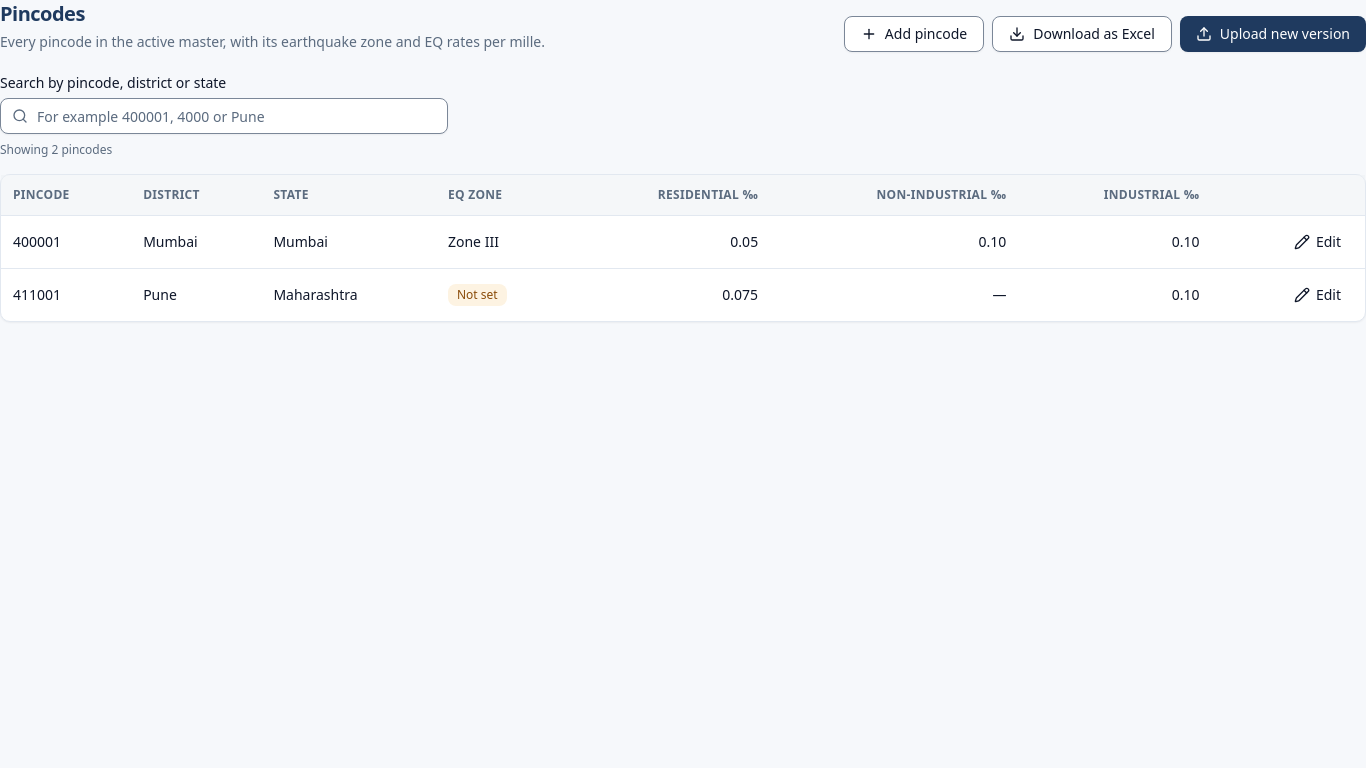
Test: PincodeView › lets an Admin correct a pincode
This screenshot has width=1366, height=768.
Click the button with aria-label "Edit pincode 400001". click: (1317, 242)
box: [1282,226,1353,258]
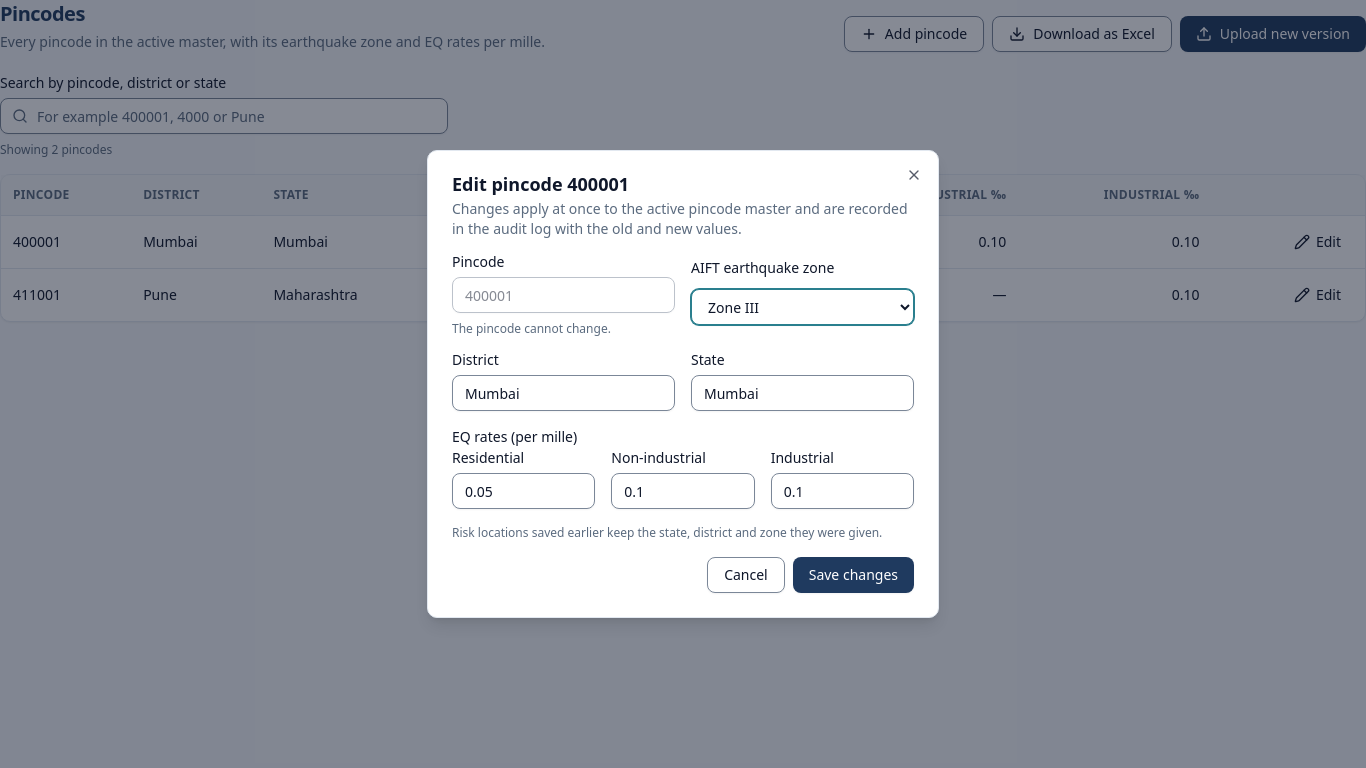
Now the field labelled "Pincode" is disabled, box [452,277,675,313]
Select "Zone II" in the dropdown labelled "AIFT earthquake zone". click: (802, 307)
box: [691,289,914,325]
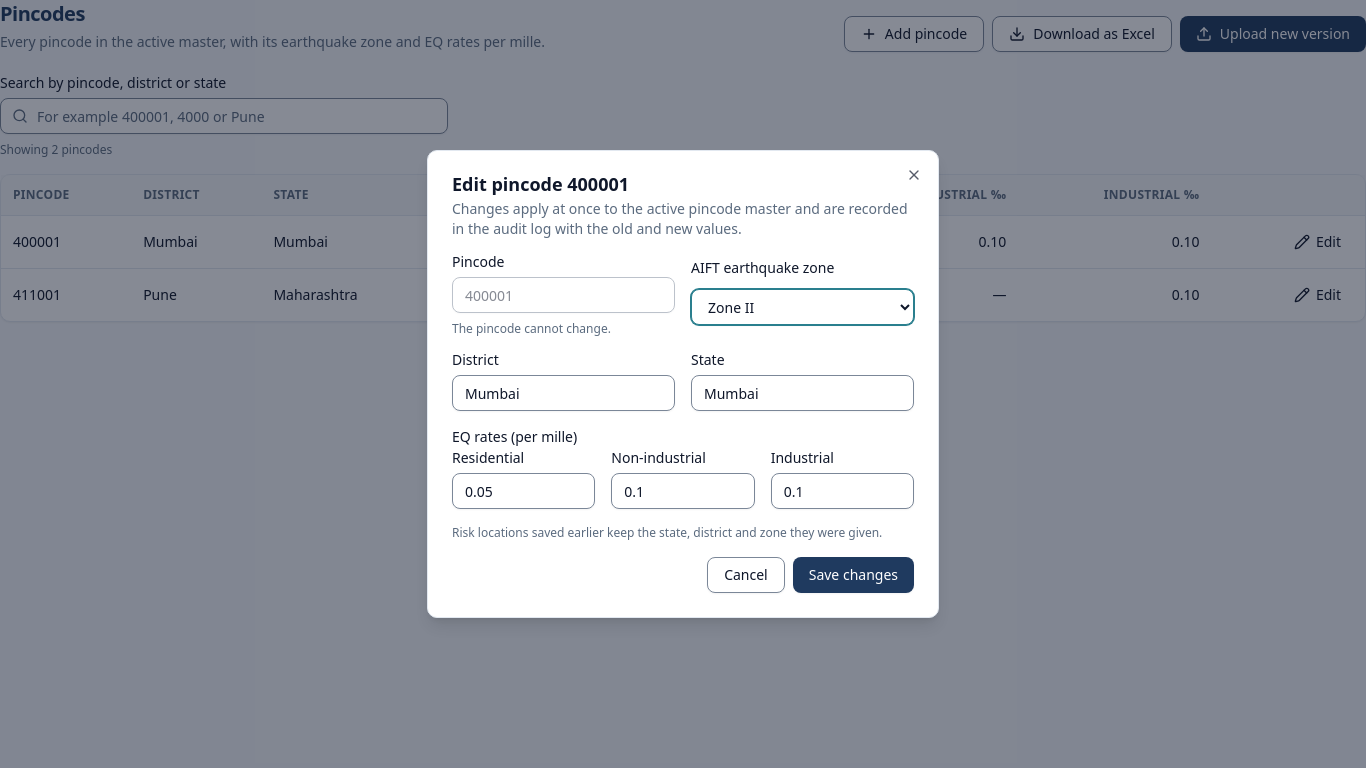
Replace the text in the field labelled "Industrial" with "0.25". click: (842, 491)
box: [771,473,914,509]
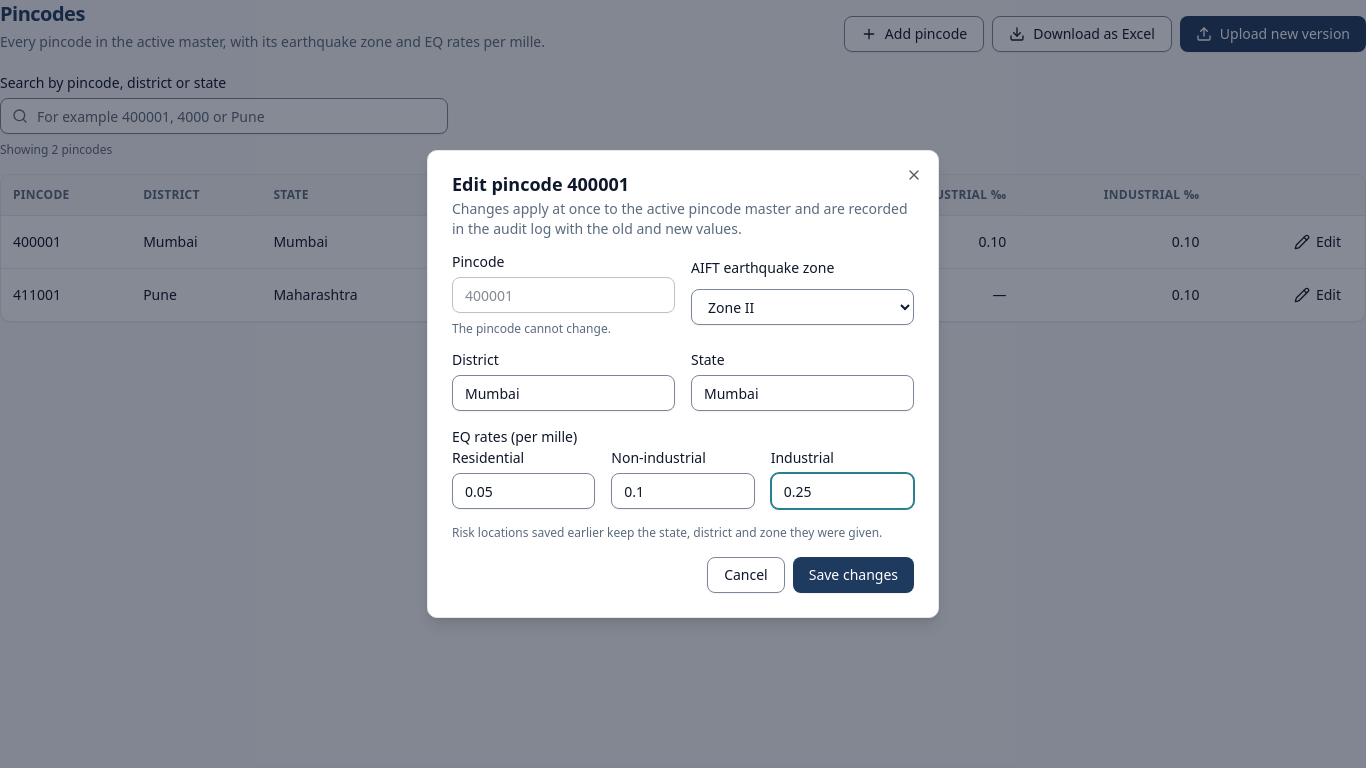
Click the button "Save changes". click: (853, 575)
box: [793,557,914,593]
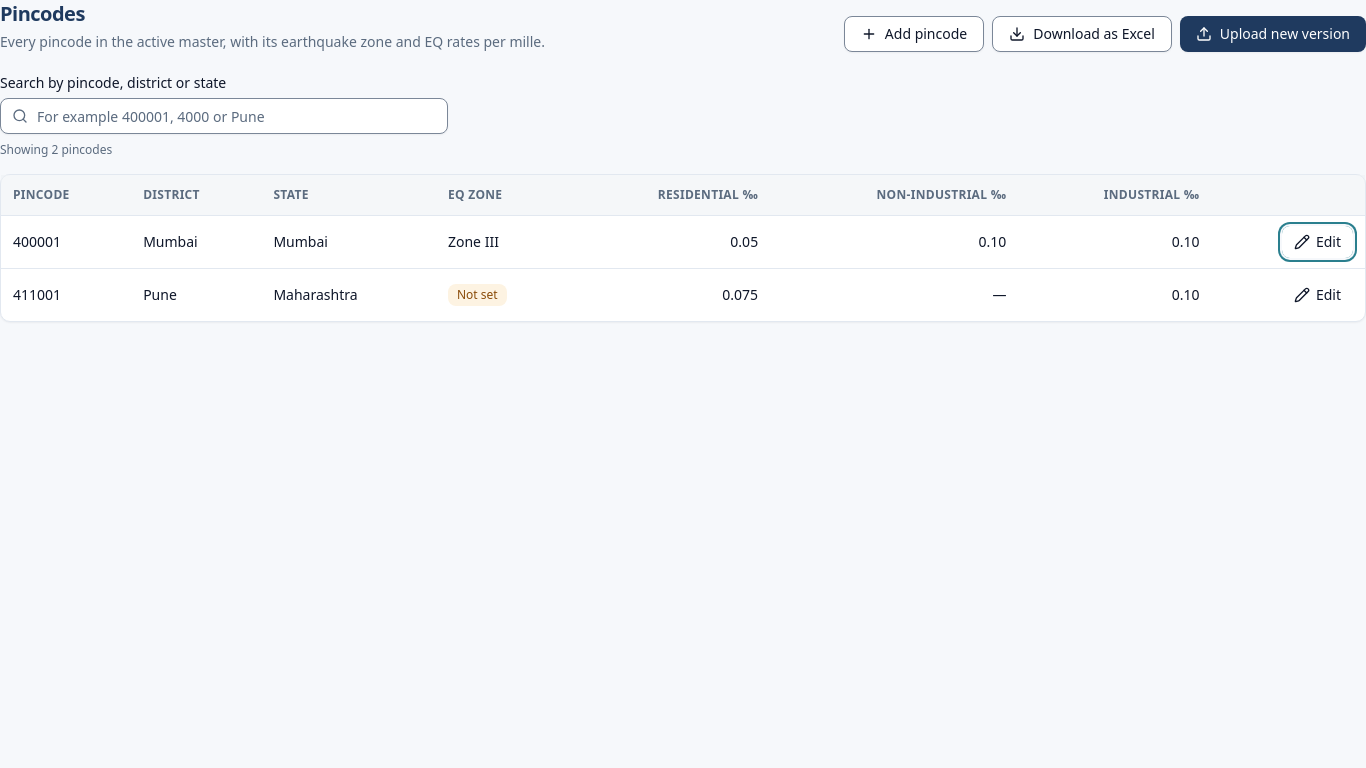
Now the dialog is gone
